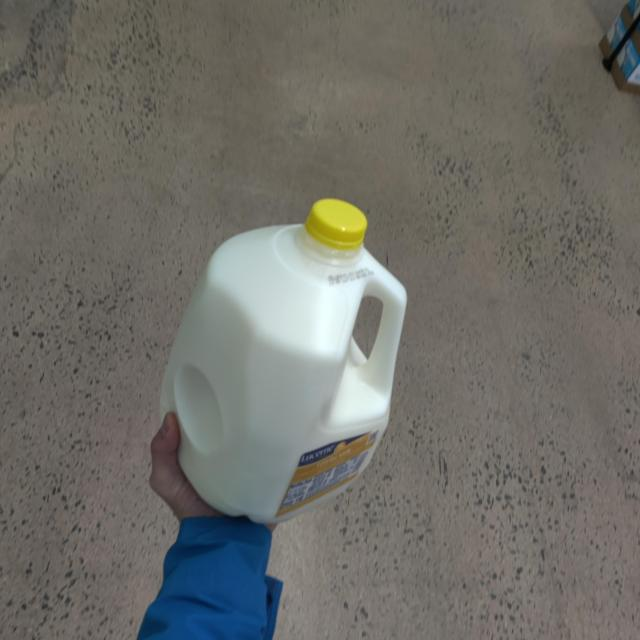Milk: (162, 198, 410, 524)
